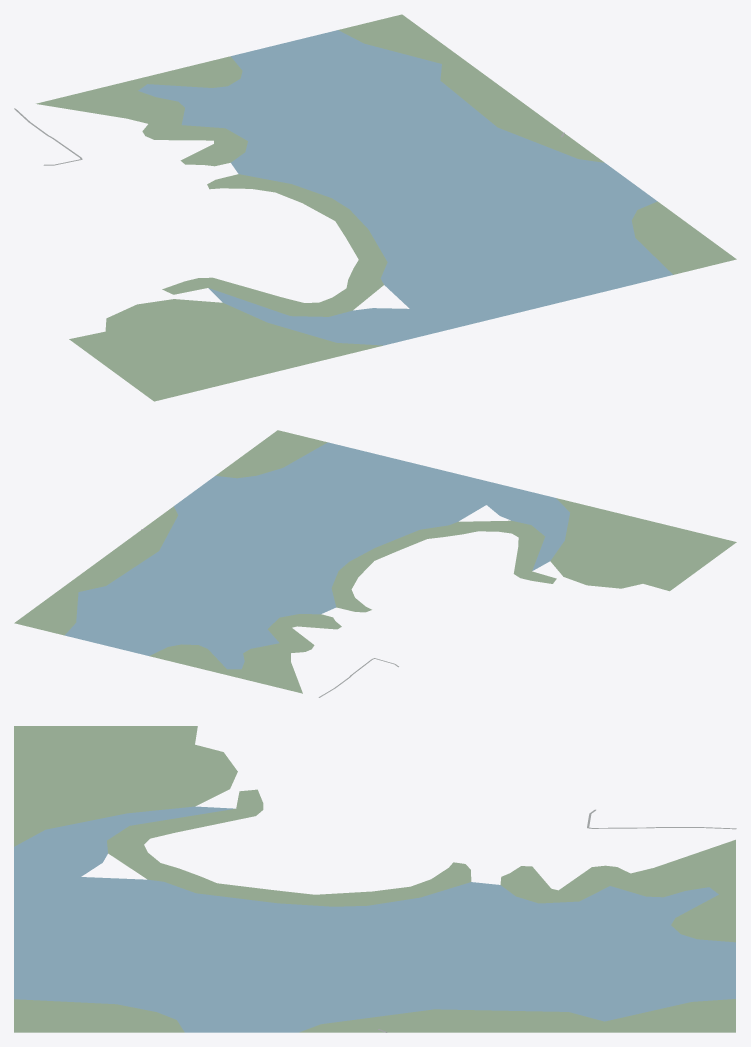
The model's file is -14_11-known-fine.glb.
The picture shows the model from 3 angles, top to bottom: view 1: azimuth 30°, elevation 25°; view 2: azimuth 150°, elevation 25°; view 3: azimuth 270°, elevation 25°; orthographic projection. The views are drawn at different scales.
Bounding box in the file's own units: 1001 × 0.1 × 996.
